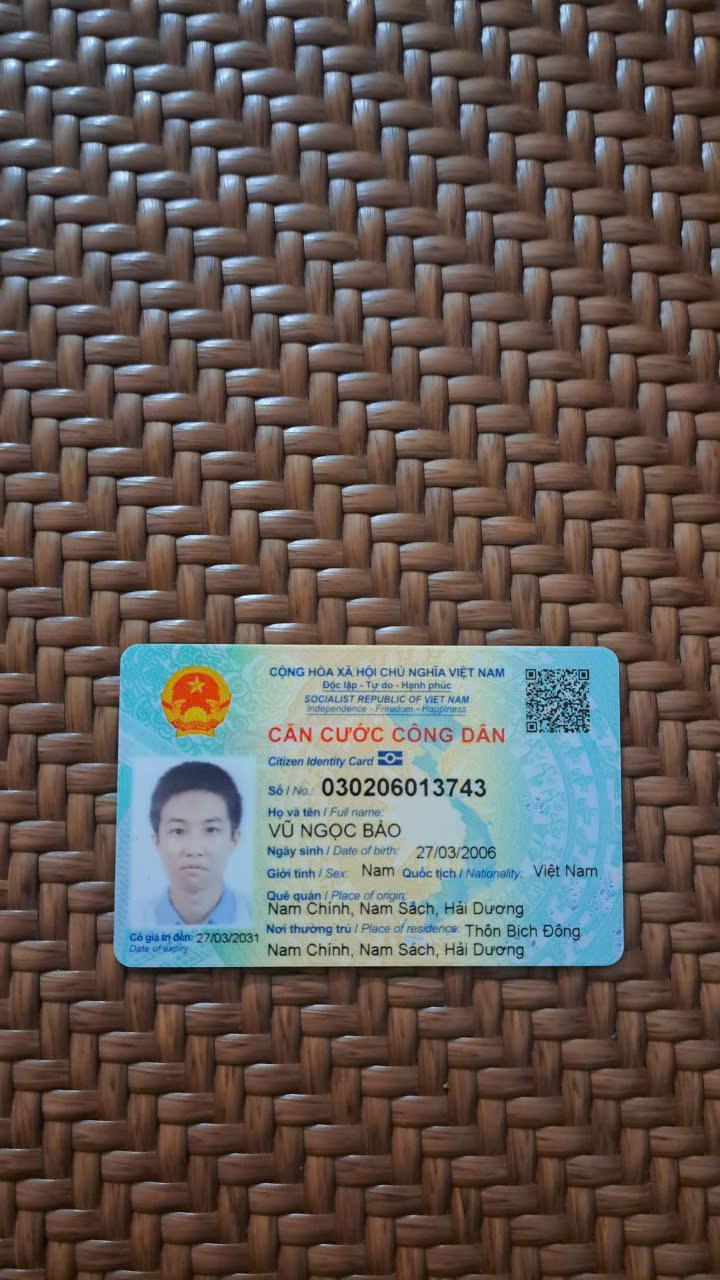cccd: (102, 635, 633, 974)
